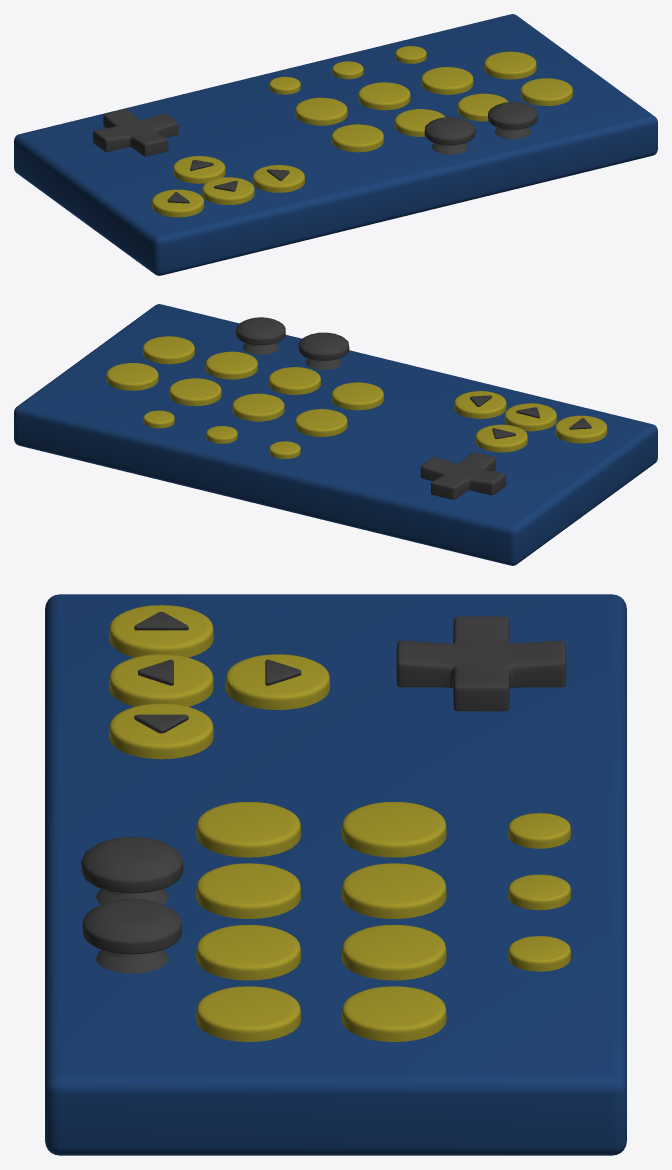
The picture shows the model from 3 angles, top to bottom: view 1: azimuth 30°, elevation 25°; view 2: azimuth 150°, elevation 25°; view 3: azimuth 270°, elevation 25°; orthographic projection. The views are drawn at different scales.
Parts seen in each view (by area): view 1: Cube, DPad_Rocker, Btn_North, Bumper_Right, Btn_South, Bumper_Left, Btn_West, Trigger_Right, Btn_L3, Btn_R3, DPad_Down, DPad_Left (+7 smaller); view 2: Cube, DPad_Rocker, Trigger_Left, Bumper_Left, Btn_South, Btn_West, Btn_North, Bumper_Right, Btn_East, Trigger_Right, Btn_L3, Btn_R3 (+7 smaller); view 3: Cube, DPad_Rocker, Bumper_Right, Btn_West, Bumper_Left, Btn_North, Btn_East, Btn_South, Trigger_Right, Trigger_Left, Btn_L3, Btn_R3 (+8 smaller).
Part boxes in pixels (x1,y1,x2,y2): Cube: (14, 14, 657, 275); DPad_Rocker: (93, 109, 178, 156); Btn_North: (358, 82, 410, 110); Bumper_Right: (484, 51, 536, 79); Btn_South: (331, 124, 383, 152); Bumper_Left: (421, 67, 473, 94); Btn_West: (295, 97, 347, 125); Trigger_Right: (520, 78, 572, 105); Btn_L3: (424, 117, 475, 145); Btn_R3: (488, 102, 537, 129); DPad_Down: (202, 177, 254, 204); DPad_Left: (152, 189, 204, 217); Cube: (14, 304, 657, 565); DPad_Rocker: (420, 452, 506, 499); Trigger_Left: (205, 351, 257, 379); Bumper_Left: (169, 378, 221, 406); Btn_South: (331, 382, 383, 410); Btn_West: (295, 409, 347, 436); Btn_North: (232, 393, 284, 421); Bumper_Right: (106, 363, 158, 390); Btn_East: (268, 367, 320, 394); Trigger_Right: (142, 336, 194, 364); Btn_L3: (298, 332, 349, 360); Btn_R3: (236, 317, 285, 345); Cube: (45, 594, 626, 1155); DPad_Rocker: (396, 616, 566, 711); Bumper_Right: (341, 986, 446, 1041); Btn_West: (341, 802, 446, 857); Bumper_Left: (341, 924, 446, 980); Btn_North: (341, 863, 446, 918); Btn_East: (196, 863, 300, 918); Btn_South: (196, 802, 300, 857); Trigger_Right: (196, 986, 300, 1041); Trigger_Left: (196, 924, 300, 980); Btn_L3: (81, 836, 183, 893); Btn_R3: (82, 898, 182, 954).
Size of the model in its own units: 4 by 0.4787 by 2.
